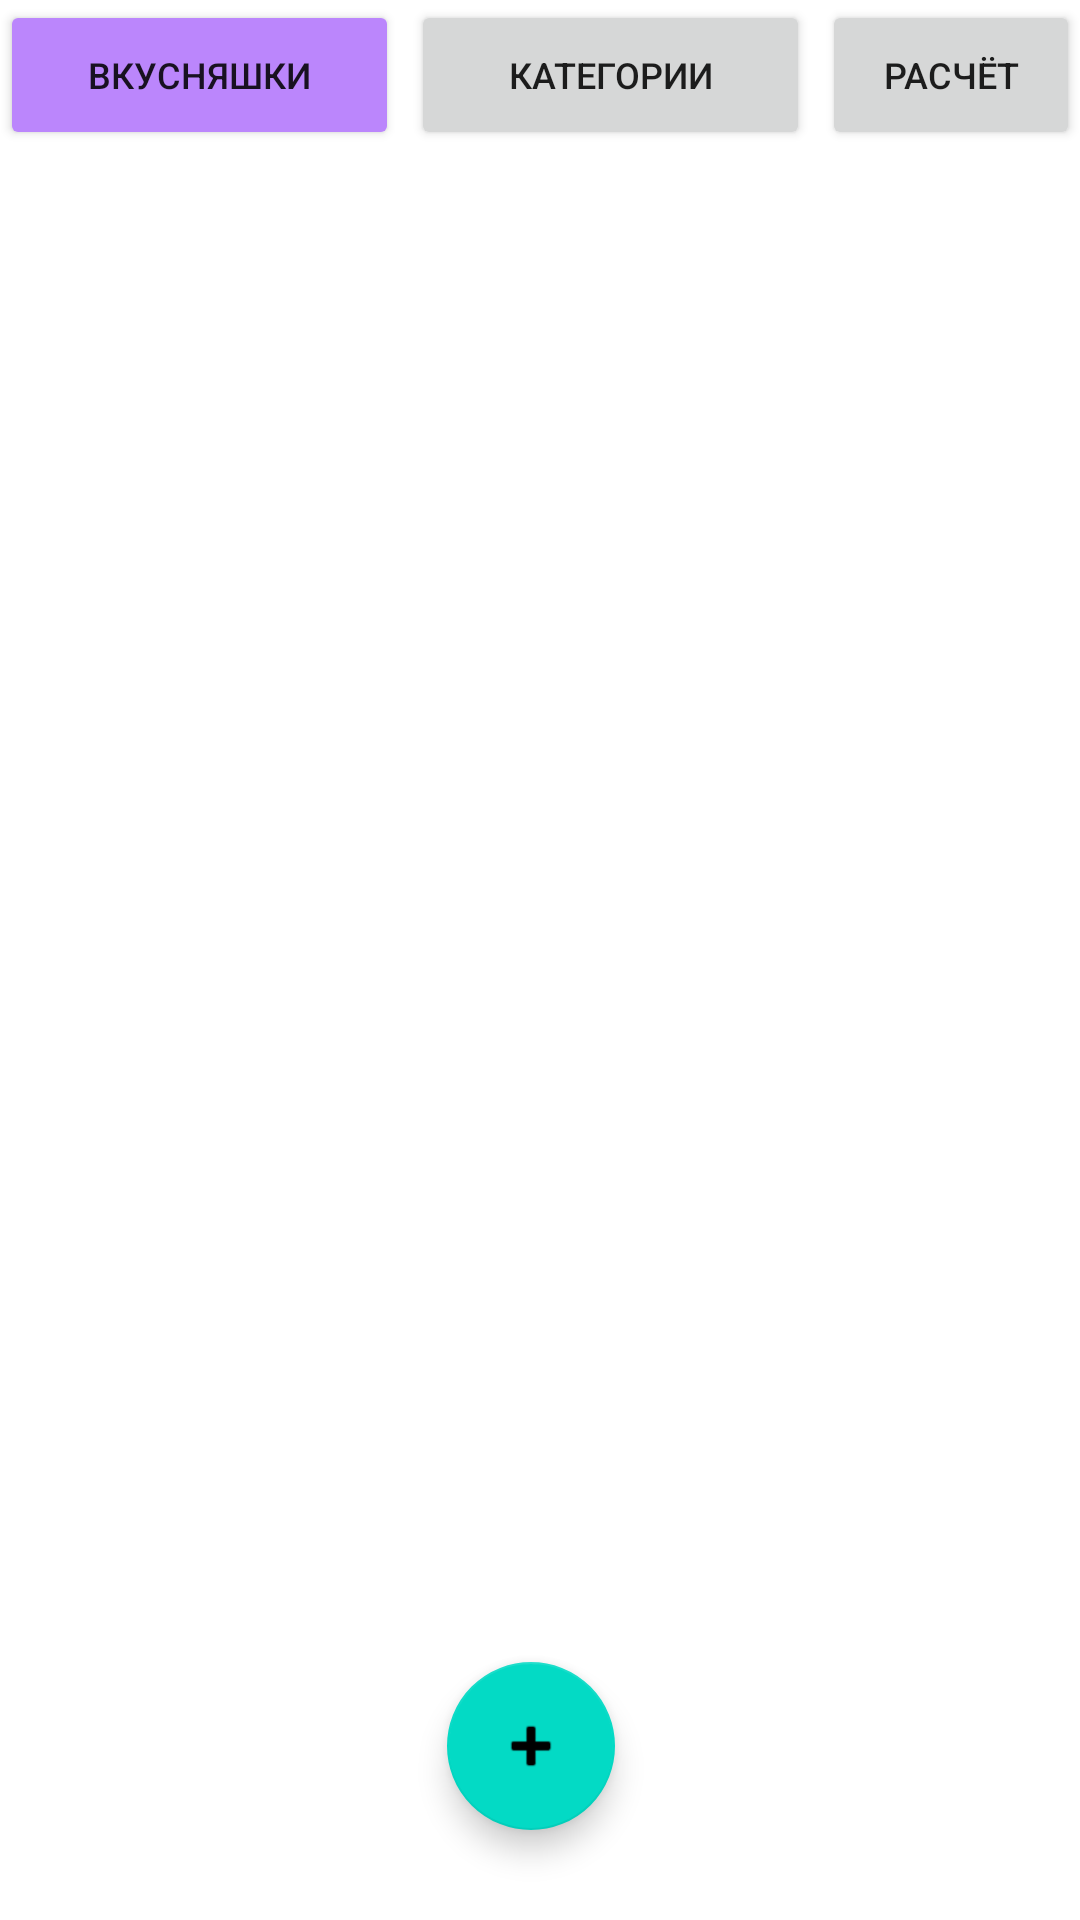

Where icons sit on this 1080 × 1920 app screen, as region(x1, y1, x2, y2):
add: region(447, 1662, 615, 1830)
